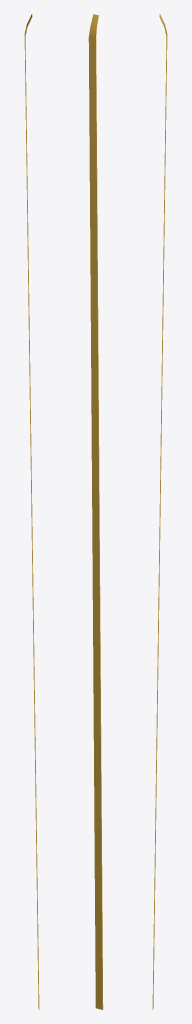
The model's file is PartyBalloons03_String2.FBX.
3 renders of one model, left to right at view 1: azimuth 90°, elevation 25°; view 2: azimuth 150°, elevation 25°; view 3: azimuth 270°, elevation 25°, orthographic.
Visible parts, largest first — view 1: PartyBalloons03_String2; view 2: PartyBalloons03_String2; view 3: PartyBalloons03_String2.
Part boxes in pixels (left/top/right/bottom): PartyBalloons03_String2: left=24, top=14, right=39, bottom=1009; PartyBalloons03_String2: left=88, top=14, right=103, bottom=1009; PartyBalloons03_String2: left=152, top=14, right=167, bottom=1009.
Size of what is drawn, in the model's own units: 0.00739 by 1 by 0.0134.
